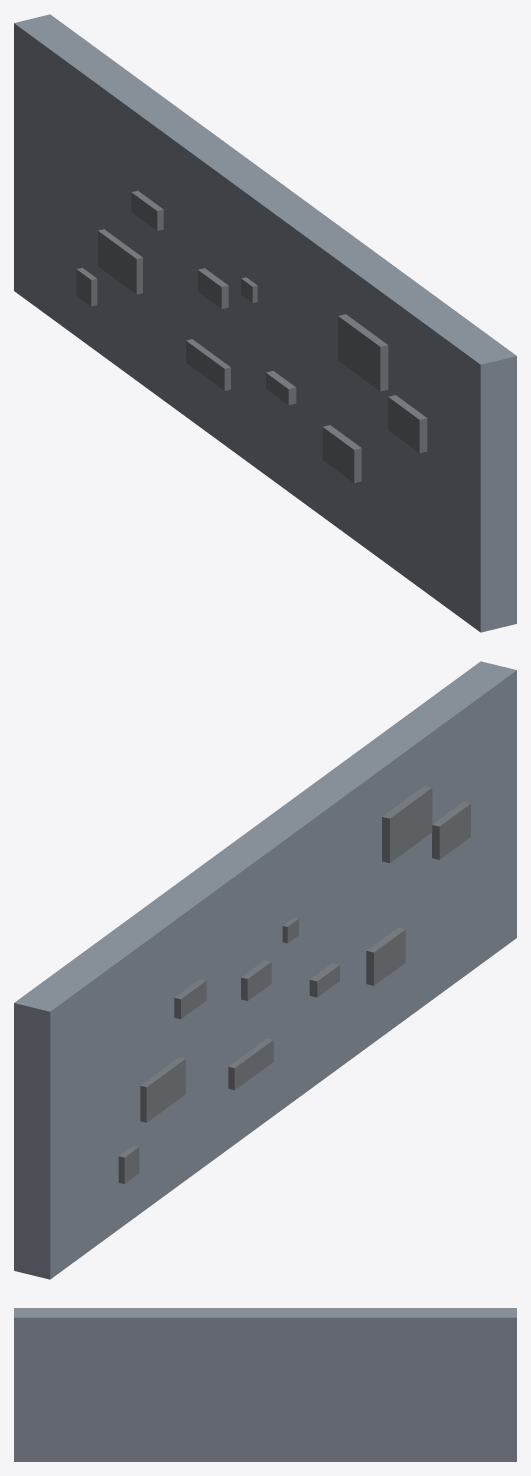
File: J_SideWall.fbx
The picture shows the model from 3 angles, top to bottom: view 1: azimuth 30°, elevation 25°; view 2: azimuth 150°, elevation 25°; view 3: azimuth 270°, elevation 25°; orthographic projection. The views are drawn at different scales.
Parts seen in each view (by area): view 1: Cube.020; view 2: Cube.020; view 3: Cube.020.
Part boxes in pixels (left/top/right/bottom): Cube.020: left=14, top=14, right=516, bottom=632; Cube.020: left=14, top=661, right=516, bottom=1279; Cube.020: left=14, top=1308, right=516, bottom=1461.
Bounding box in the file's own units: 66.96 × 390 × 1231.
